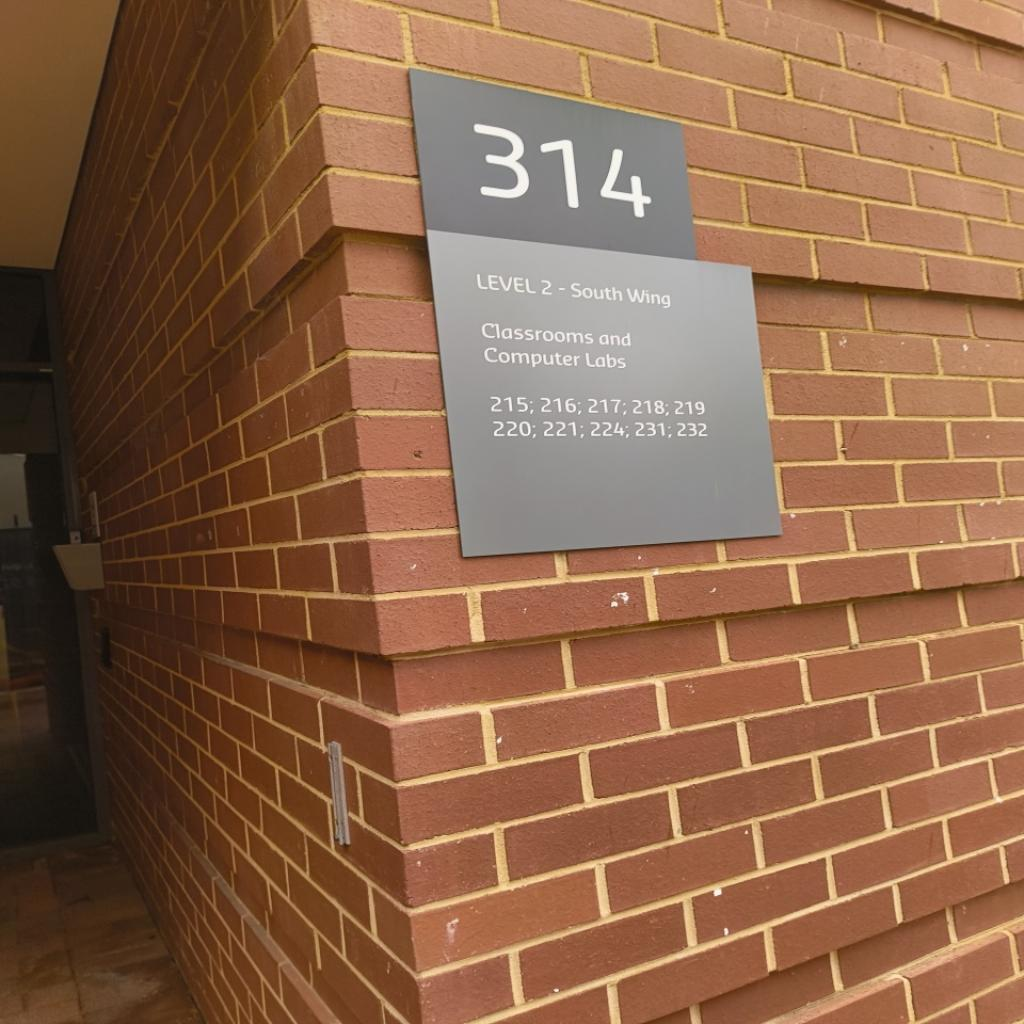BuildingCodes: (467, 118, 655, 224)
